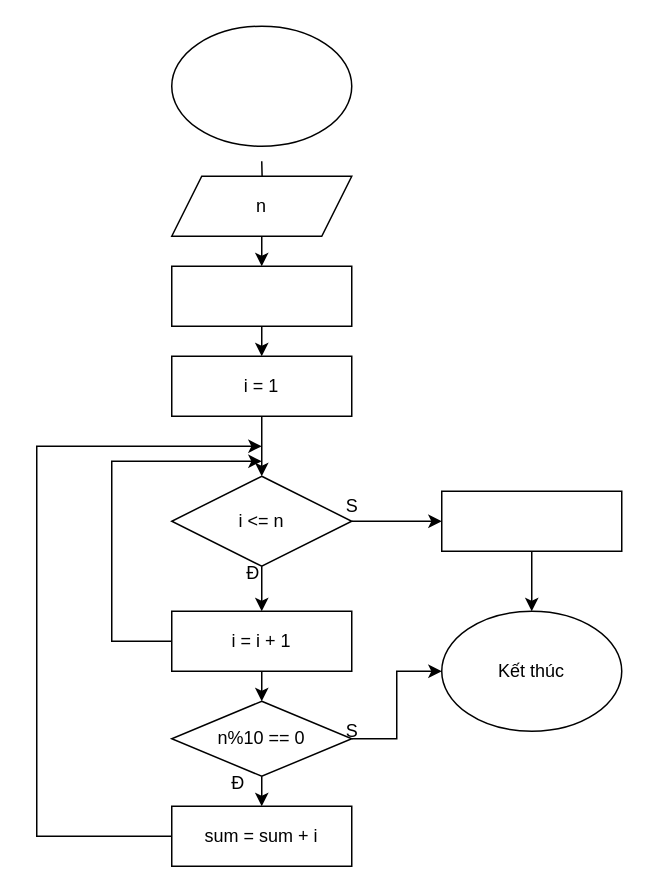
This 648x893 diagram has some shape labels left out. Each missing label, with the box of its shape:
Bắt đầu: (170, 25, 352, 146)
sum: (440, 490, 622, 551)
sum = 0: (170, 265, 352, 326)
